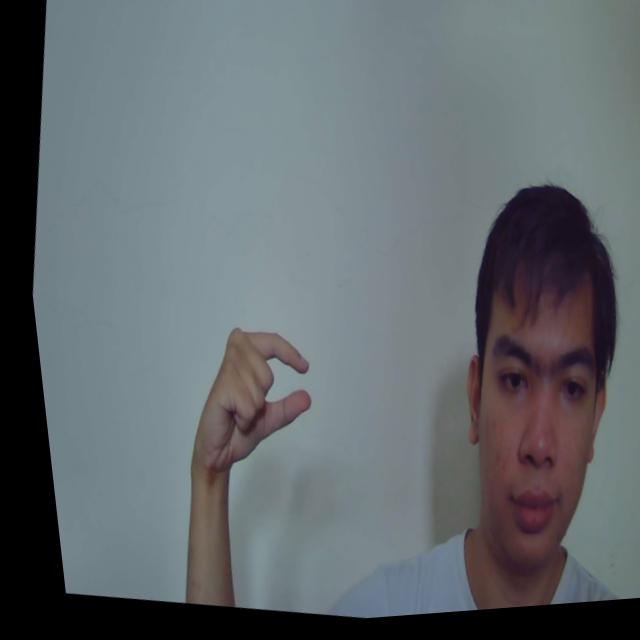G: (167, 319, 320, 492)
